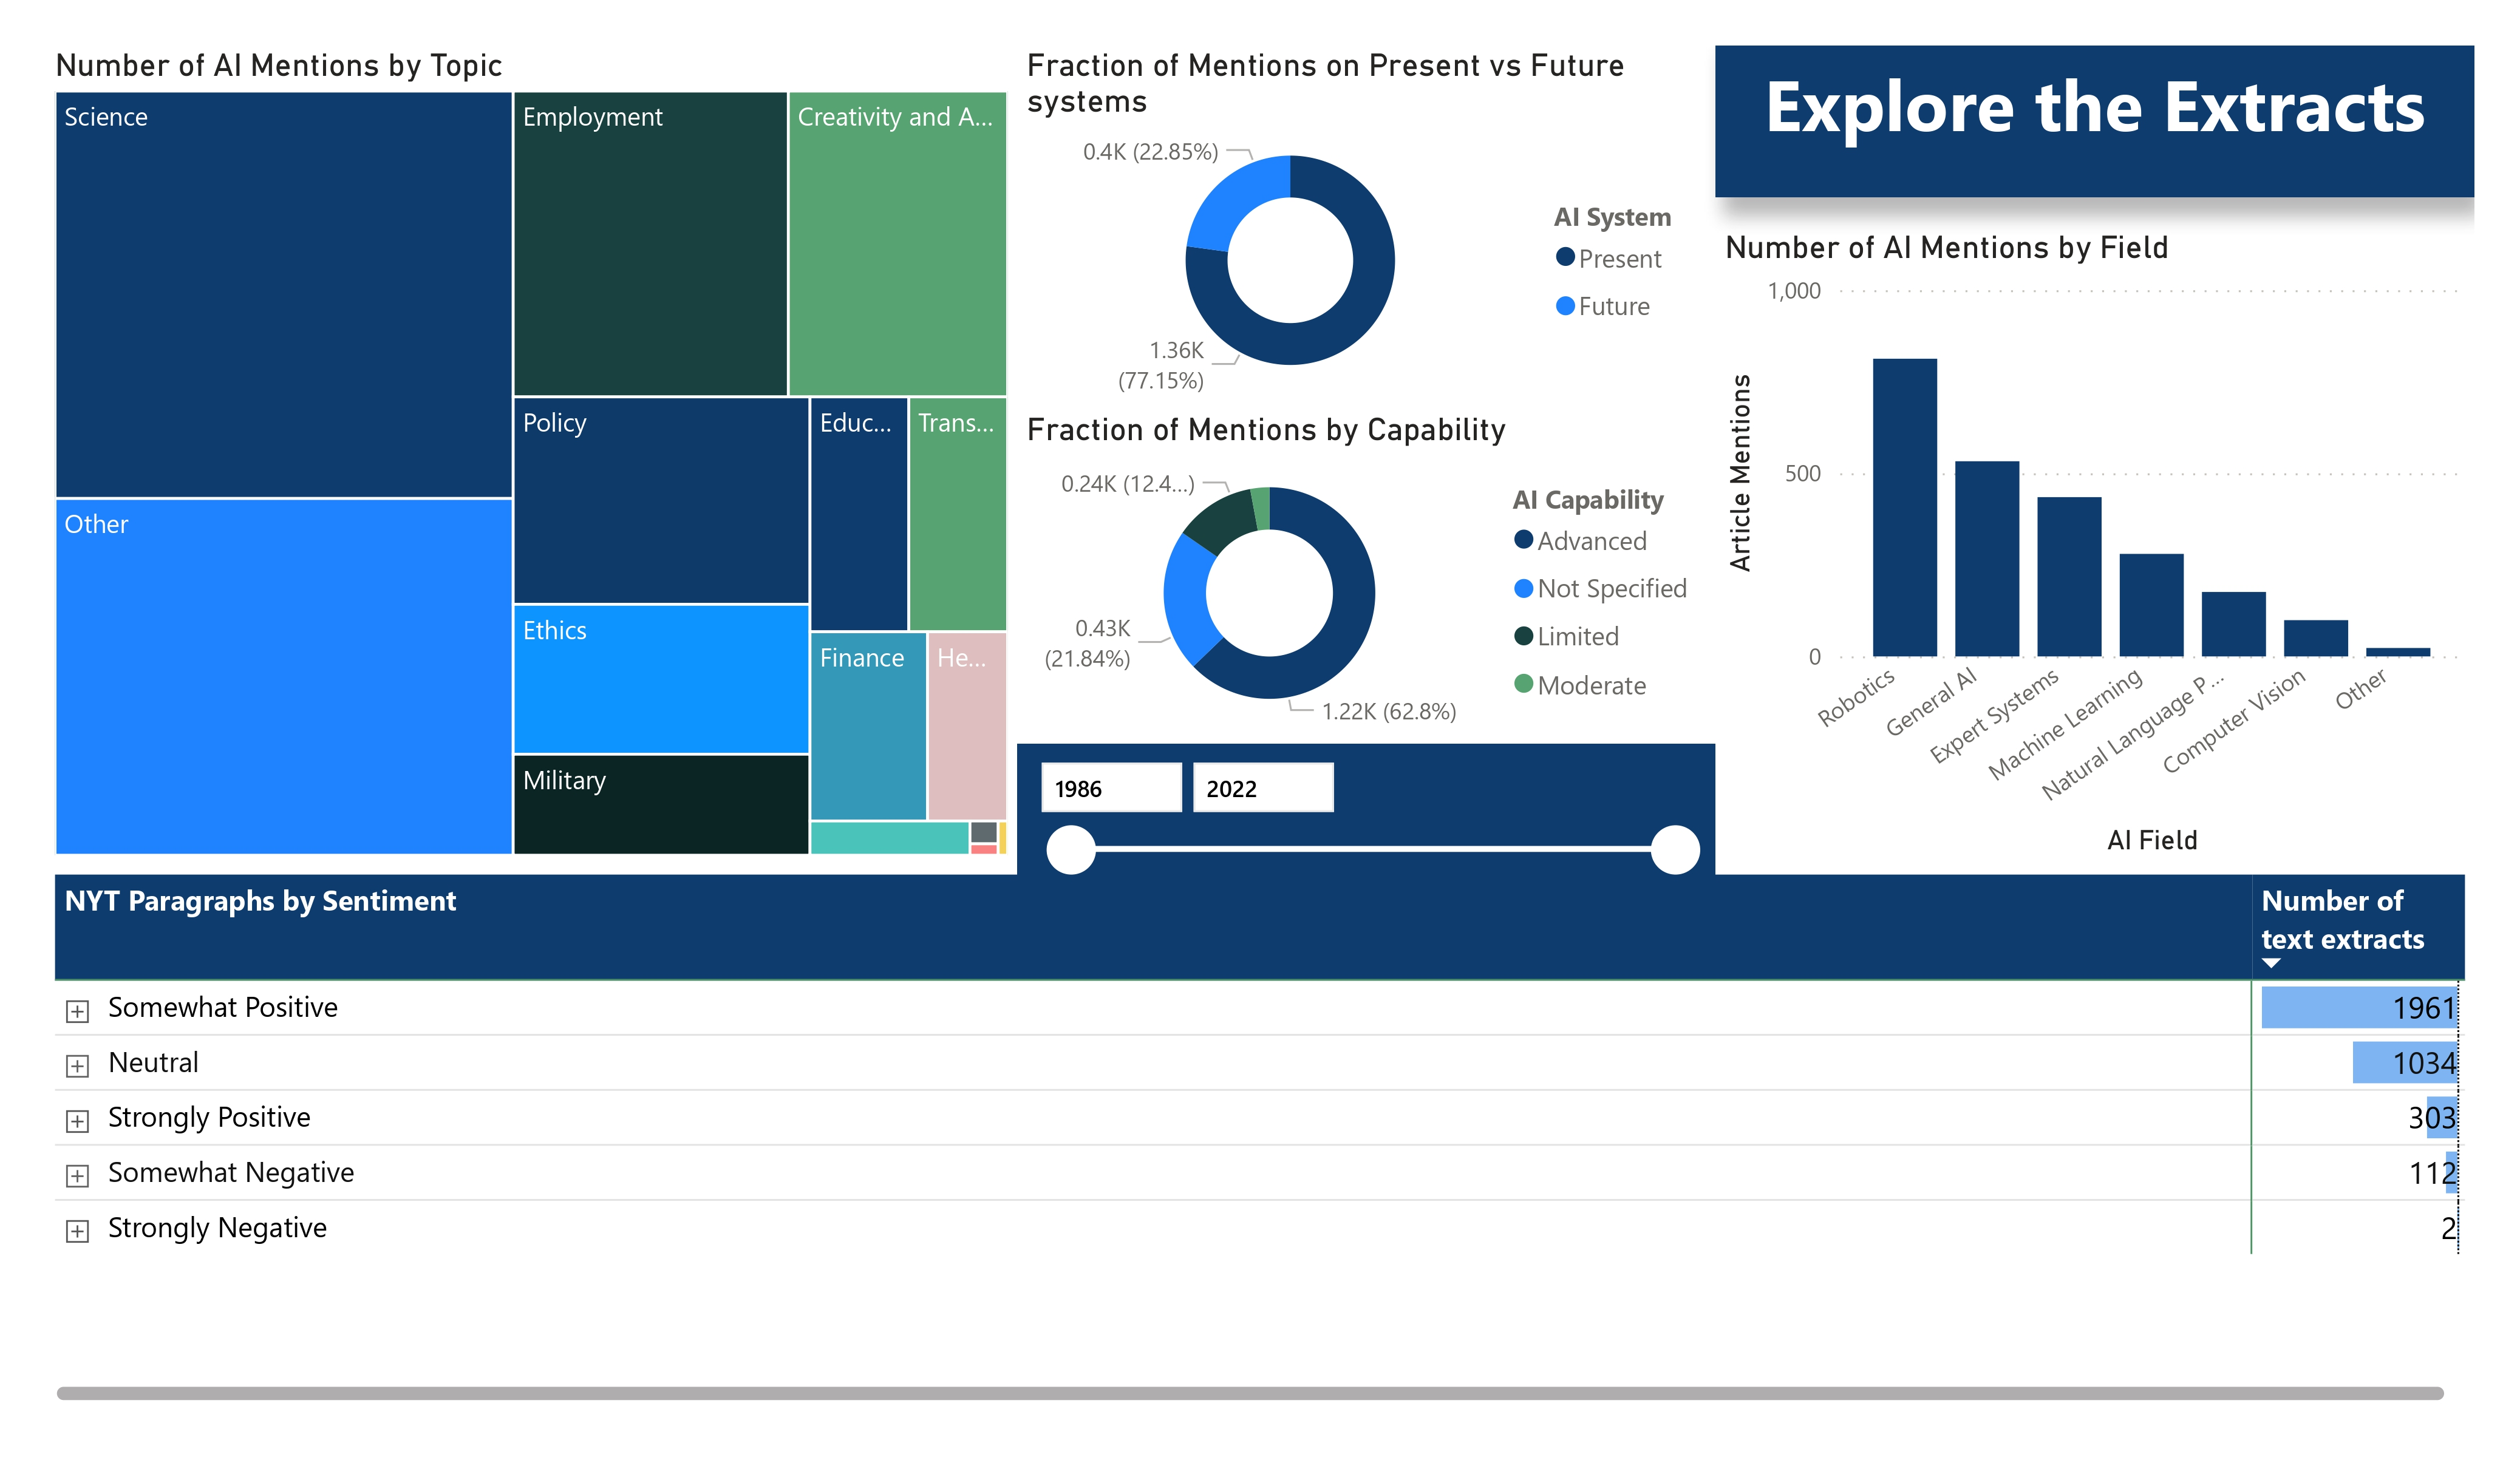

Layout of this report page (visuals, bound fields, positions):
{"tool":"powerbi","page":{"name":"Explore the Extracts","canvas":[1280,720],"ordinal":0},"visuals":[{"type":"textbox","box":[0,0,512,80],"z":0},{"type":"treemap","title":"Number of AI Mentions by Topic","fields":{"Values":["ai-mood.web_url"],"Group":["ai-mood.topic"]},"box":[0,0,512,432],"z":1000},{"type":"columnChart","title":"Number of AI Mentions by Field","fields":{"Category":["ai-mood.field"],"Y":["ai-mood.text"]},"box":[880,96,400,336],"z":2000},{"type":"donutChart","title":"Fraction of Mentions on Present vs Future systems","fields":{"Category":["ai-mood.temporality"],"Y":["ai-mood.web_url"]},"box":[512,0,368,192],"z":4000},{"type":"donutChart","title":"Fraction of Mentions by Capability","fields":{"Category":["ai-mood.capability"],"Y":["ai-mood.web_url"]},"box":[512,192,368,176],"z":5000},{"type":"pivotTable","fields":{"Rows":["ai-mood.sentiment_likert_label","ai-mood.text"],"Values":["ai-mood.text"]},"box":[0,432,1280,288],"z":6000},{"type":"slicer","title":"Select time slice","fields":{"Values":["ai-mood.pub_date.Variation.Date Hierarchy.Year"]},"box":[512,368,368,96],"z":7000},{"type":"textbox","box":[880,0,400,80],"z":8000}]}

Visuals, with their boxes on the page's 1280x720 design canvas (x1, y1, x2, y2). These are canvas units, not pixel positions in the 2520x1457 screenshot, which may show the page scaled, cropped or inside an application window:
textbox: (x1=0, y1=0, x2=512, y2=80)
"Number of AI Mentions by Topic" treemap: (x1=0, y1=0, x2=512, y2=432)
"Number of AI Mentions by Field" columnChart: (x1=880, y1=96, x2=1280, y2=432)
"Fraction of Mentions on Present vs Future systems" donutChart: (x1=512, y1=0, x2=880, y2=192)
"Fraction of Mentions by Capability" donutChart: (x1=512, y1=192, x2=880, y2=368)
pivotTable - ai-mood.sentiment_likert_label x ai-mood.text: (x1=0, y1=432, x2=1280, y2=720)
"Select time slice" slicer: (x1=512, y1=368, x2=880, y2=464)
textbox: (x1=880, y1=0, x2=1280, y2=80)
